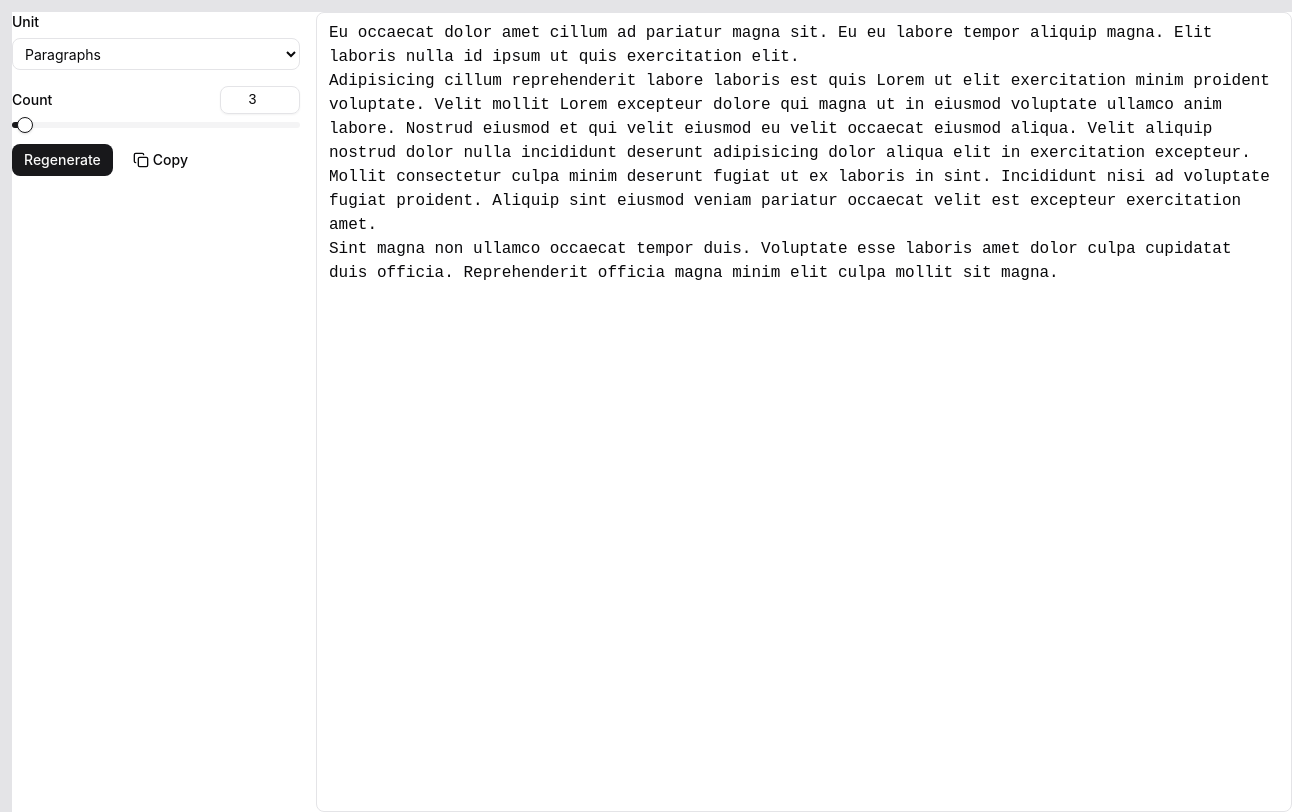
Scenario: count clamped to 1 when 0 is entered then blurred
This screenshot has width=1292, height=812.
Replace the text in the number field with "0" at {"x": 260, "y": 100}, box x1=220 y1=86 x2=300 y2=114
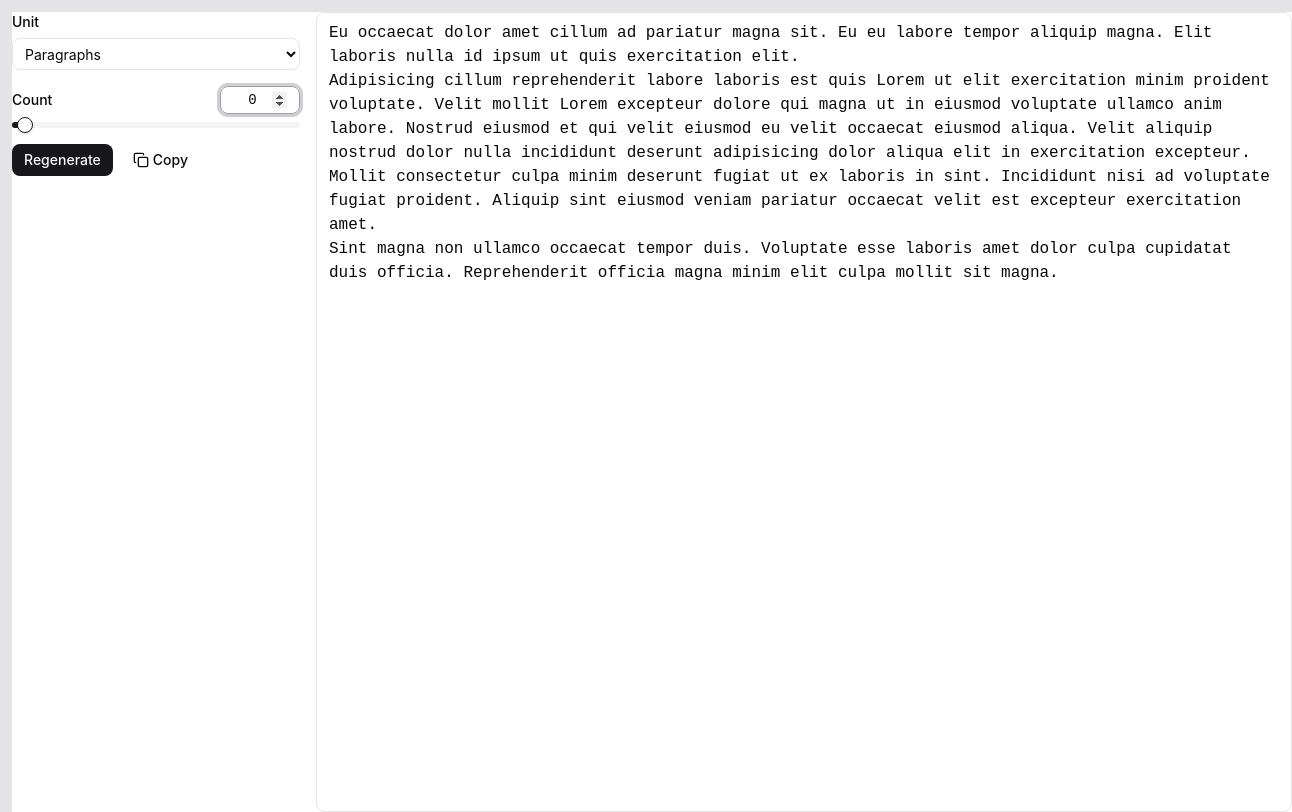
# Click Regenerate to commit blur
Click the button "Regenerate" at {"x": 62, "y": 160}, box x1=12 y1=144 x2=113 y2=176
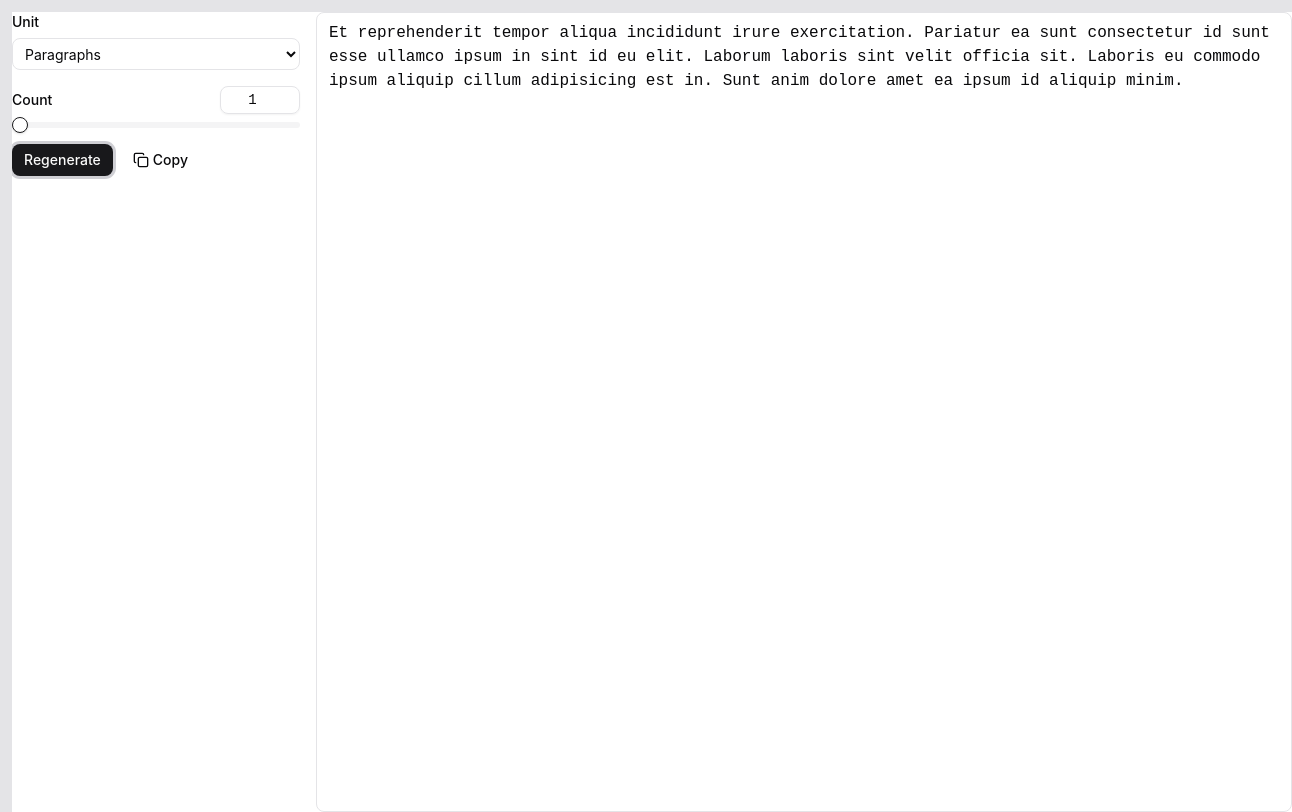
Expected: the number field holds "1", x1=220 y1=86 x2=300 y2=114
